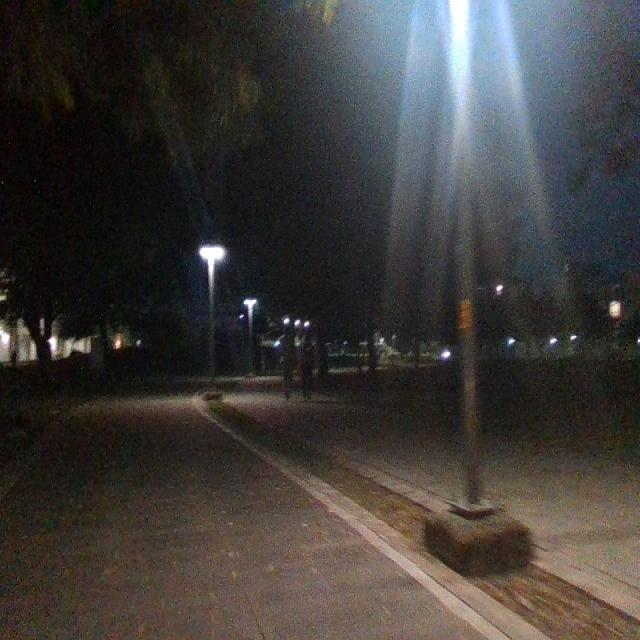lane: (0, 397, 492, 640)
